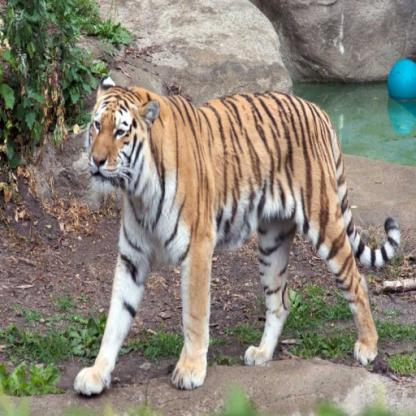Tiger: (47, 73, 405, 398)
